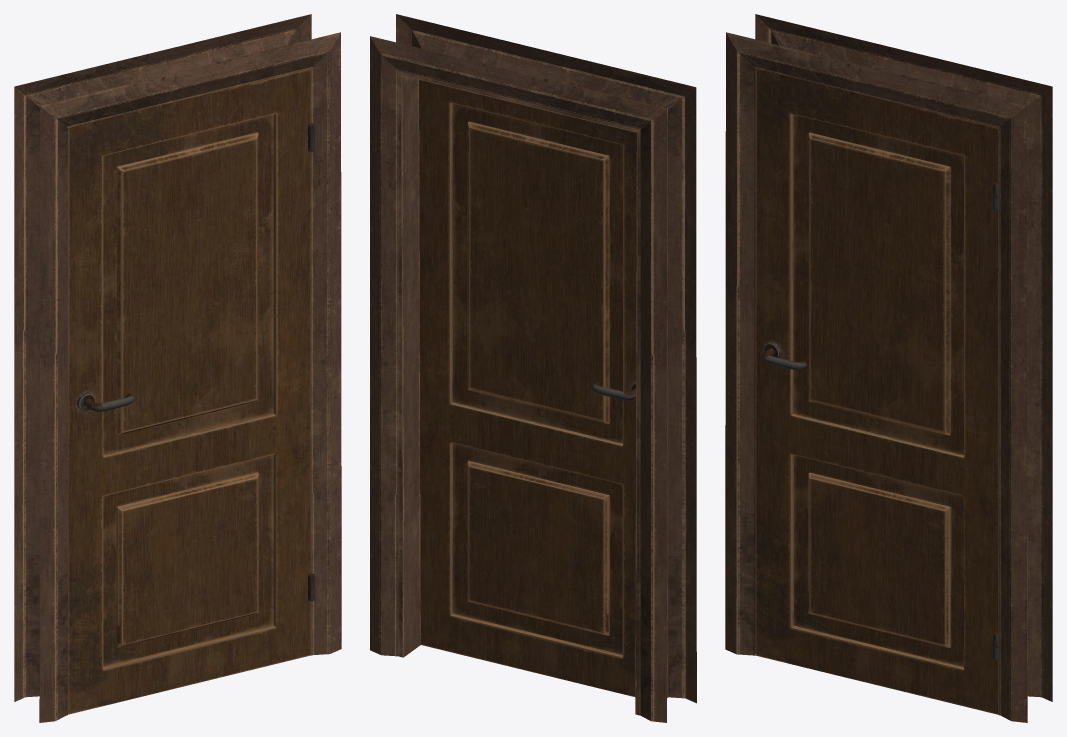
3 views of the same model, side by side, from view 1: azimuth 30°, elevation 25°; view 2: azimuth 150°, elevation 25°; view 3: azimuth 330°, elevation 25° (orthographic).
Parts seen in each view (by area): view 1: Object_2, Object_3; view 2: Object_2, Object_3; view 3: Object_2, Object_3.
Boxes of the visible parts, <box> form: Object_2: <box>68,69,314,714</box>; Object_3: <box>14,14,341,722</box>; Object_2: <box>419,80,636,696</box>; Object_3: <box>370,14,696,722</box>; Object_2: <box>756,69,999,714</box>; Object_3: <box>725,14,1052,722</box>.
Size of the model in its own units: 3.19 by 0.7589 by 6.22.
